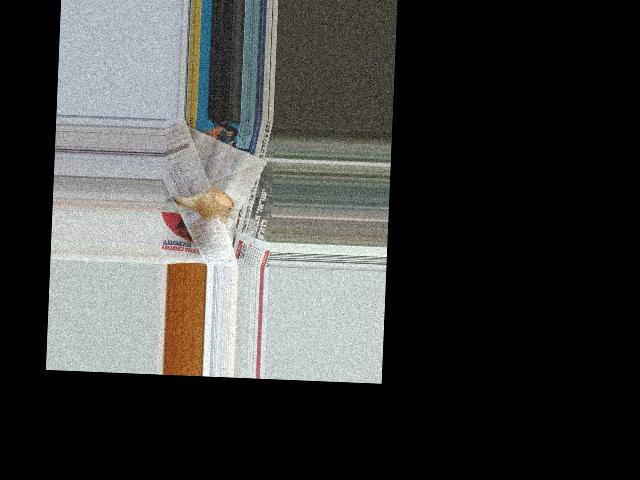onion: (187, 188, 231, 218)
